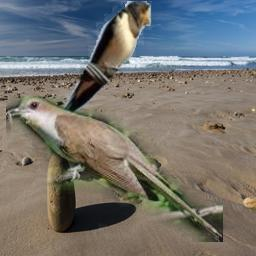Cuckoo: (6, 96, 223, 242)
Swallow: (62, 1, 152, 113)
